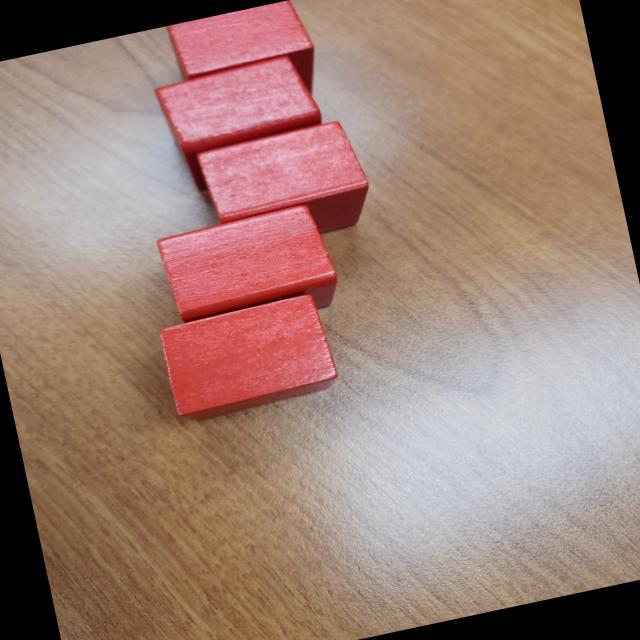red: (192, 114, 380, 258), (152, 51, 332, 198), (155, 200, 343, 338), (157, 289, 340, 425), (164, 0, 325, 127)
